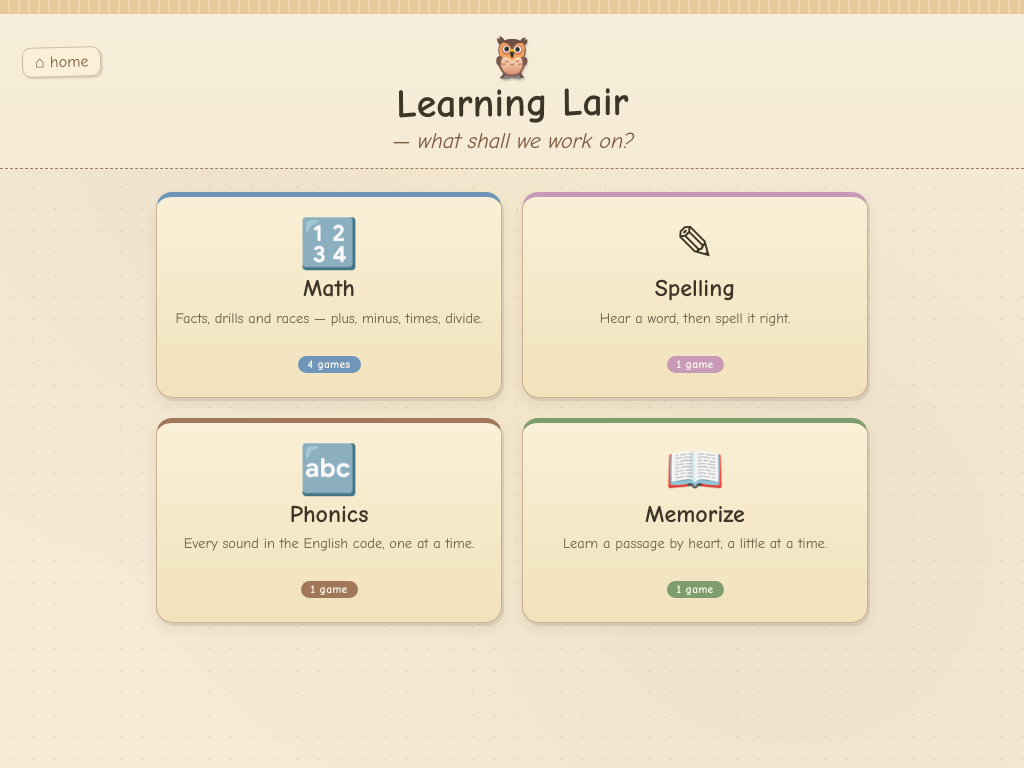
Dragon Memorize rendered experience › keeps each subject to its own games
The width and height of the screenshot is (1024, 768).
Click the button with aria-label "Phonics games".
click(329, 520)  # box [156, 418, 502, 623]
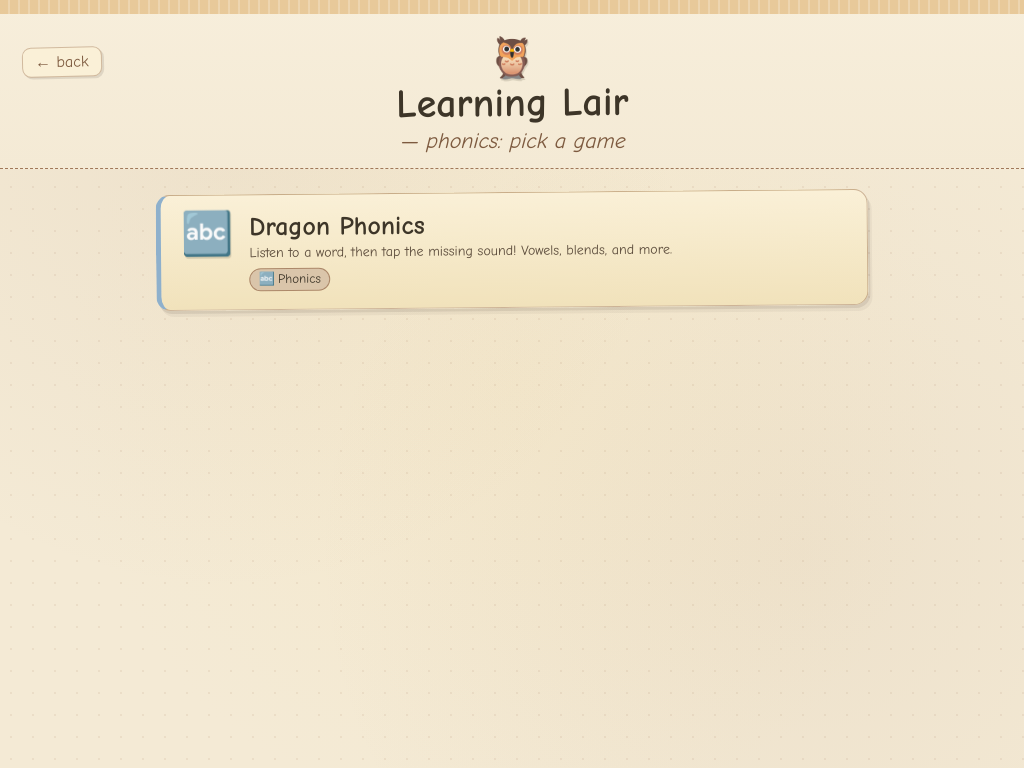
Expected: the button with aria-label "Play Dragon Phonics" is shown, [156, 189, 868, 311]
